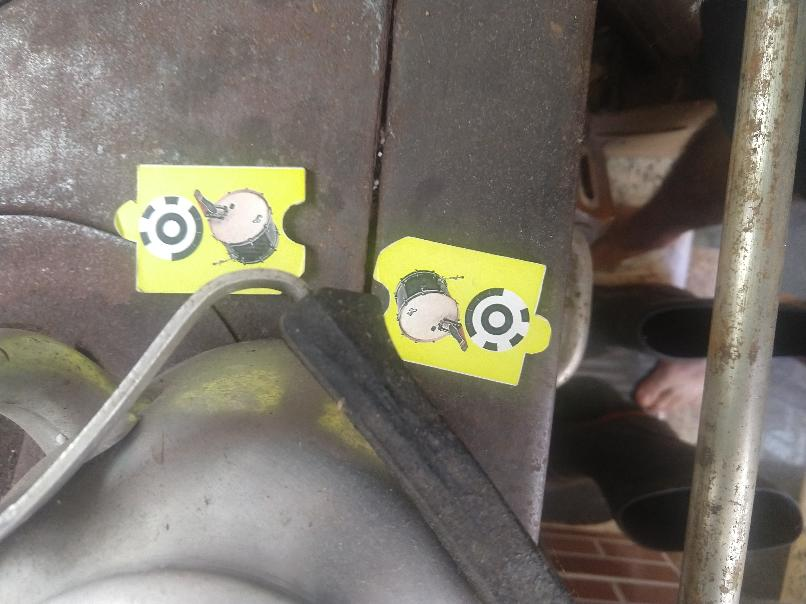bumbo: (368, 233, 554, 390), (114, 161, 306, 295)
